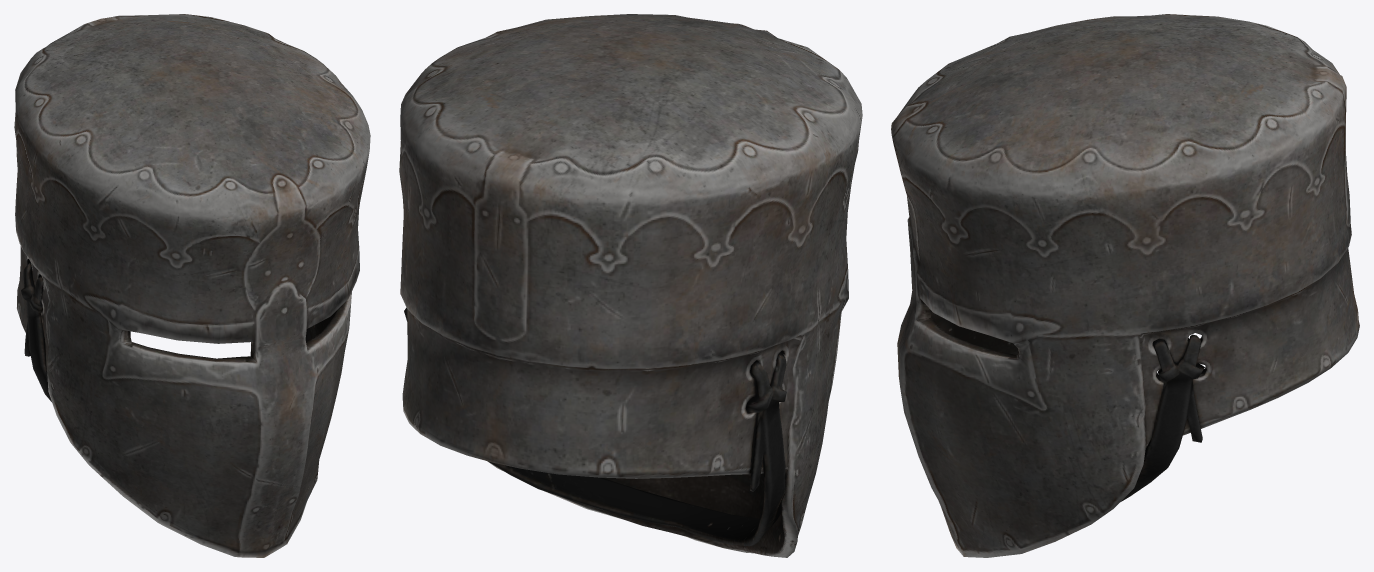
File: HeavyHelmet02.fbx
3 views of the same model, side by side, from view 1: azimuth 30°, elevation 25°; view 2: azimuth 150°, elevation 25°; view 3: azimuth 270°, elevation 25° (orthographic). The views are drawn at different scales.
Visible parts, largest first — view 1: Helmet_02.002; view 2: Helmet_02.002; view 3: Helmet_02.002.
Boxes of the visible parts, <box> form: Helmet_02.002: <box>14,14,370,557</box>; Helmet_02.002: <box>399,14,862,557</box>; Helmet_02.002: <box>891,14,1359,557</box>.
Bounding box in the file's own units: 20.75 × 29.39 × 25.19.
